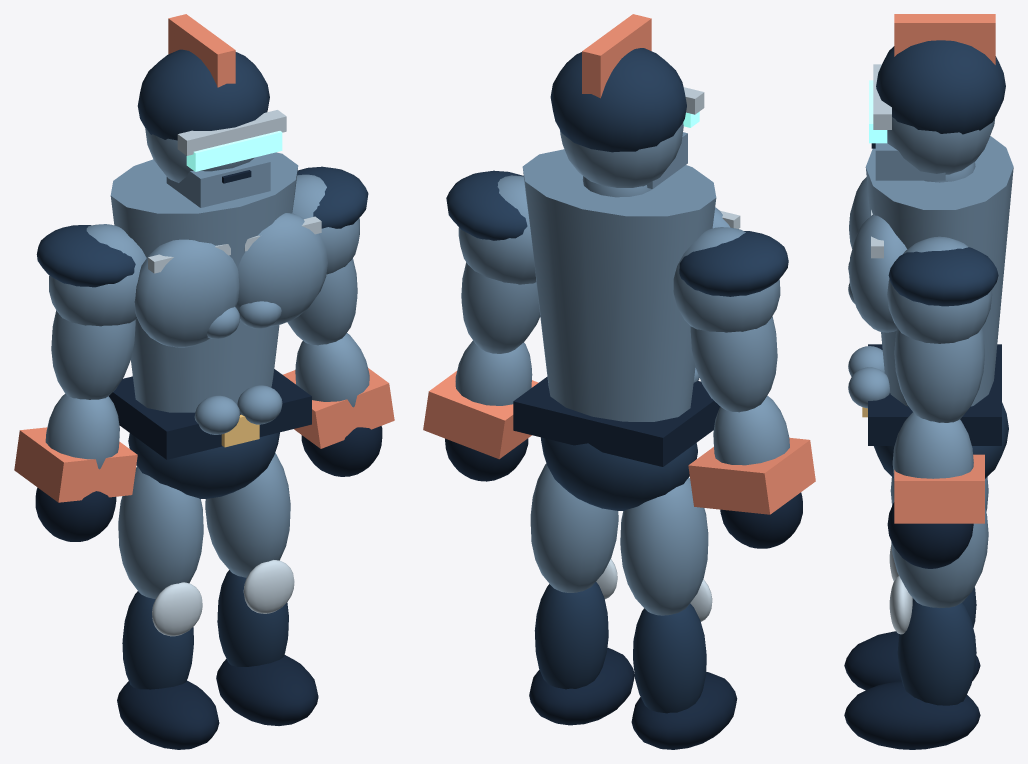
Rendered from developing.glb.
3 views of the same model, side by side, from view 1: azimuth 30°, elevation 25°; view 2: azimuth 150°, elevation 25°; view 3: azimuth 270°, elevation 25° (orthographic). The views are drawn at different scales.
Parts seen in each view (by area): view 1: Torso, Pectoral_L, Helmet, Thigh_L, Pectoral_R, Thigh_R, Belt, Pelvis, Bicep_L, Cosmetic_Bracer_L, Boot_R, Boot_L (+24 smaller); view 2: Torso, Helmet, Thigh_L, Belt, Thigh_R, Pelvis, Shin_L, Shin_R, Cosmetic_Bracer_L, Bicep_L, ShoulderPlate_L, Bicep_R (+12 smaller); view 3: Torso, Helmet, Shin_R, Bicep_R, Boot_R, ShoulderPlate_R, Cosmetic_Bracer_R, Deltoid_R, Forearm_R, Pectoral_R, Thigh_R, Belt (+14 smaller).
Boxes of the visible parts, box(x1,y1,x2,y2) form: Torso: box(110, 152, 298, 412); Pectoral_L: box(134, 239, 239, 347); Helmet: box(137, 49, 269, 140); Thigh_L: box(118, 466, 203, 598); Pectoral_R: box(236, 213, 327, 326); Thigh_R: box(205, 453, 290, 577); Belt: box(109, 369, 311, 459); Pelvis: box(128, 432, 279, 498); Bicep_L: box(51, 310, 135, 399); Cosmetic_Bracer_L: box(14, 427, 137, 502); Boot_R: box(216, 654, 318, 725); Boot_L: box(117, 680, 219, 749); Torso: box(522, 149, 716, 421); Helmet: box(550, 48, 686, 152); Thigh_L: box(620, 477, 708, 615); Belt: box(513, 377, 720, 466); Thigh_R: box(530, 463, 618, 592); Pelvis: box(541, 437, 697, 510); Shin_L: box(633, 603, 706, 713); Shin_R: box(534, 582, 608, 689); Cosmetic_Bracer_L: box(688, 437, 815, 514); Bicep_L: box(690, 316, 777, 412); ShoulderPlate_L: box(679, 231, 788, 296); Bicep_R: box(461, 262, 540, 353); Torso: box(865, 136, 1013, 406); Helmet: box(876, 40, 1005, 134); Shin_R: box(897, 599, 976, 705); Bicep_R: box(894, 328, 984, 422); Boot_R: box(844, 681, 980, 749); ShoulderPlate_R: box(888, 247, 998, 306); Cosmetic_Bracer_R: box(894, 454, 984, 523); Deltoid_R: box(887, 236, 992, 343); Forearm_R: box(892, 412, 973, 478); Pectoral_R: box(849, 214, 907, 332); Thigh_R: box(891, 508, 988, 607); Belt: box(868, 344, 1001, 445).
Size of the model in its own units: 1.54 by 2.98 by 0.6518.
